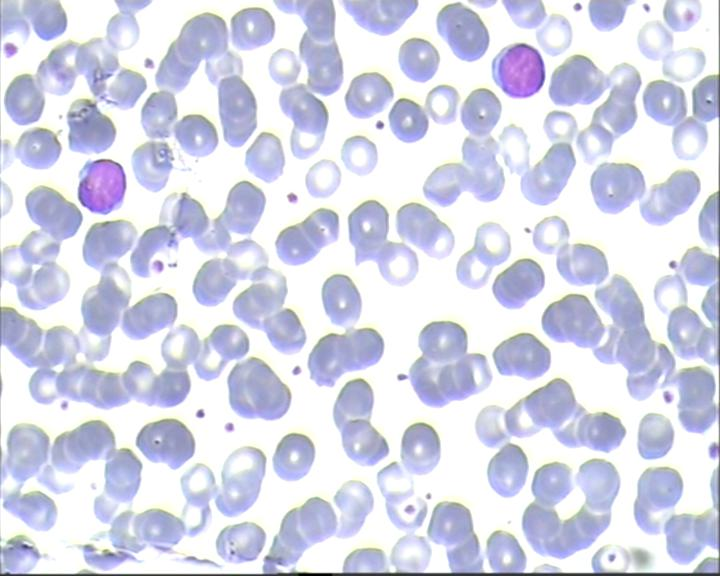lymp: (485, 39, 548, 103), (74, 154, 132, 216)
